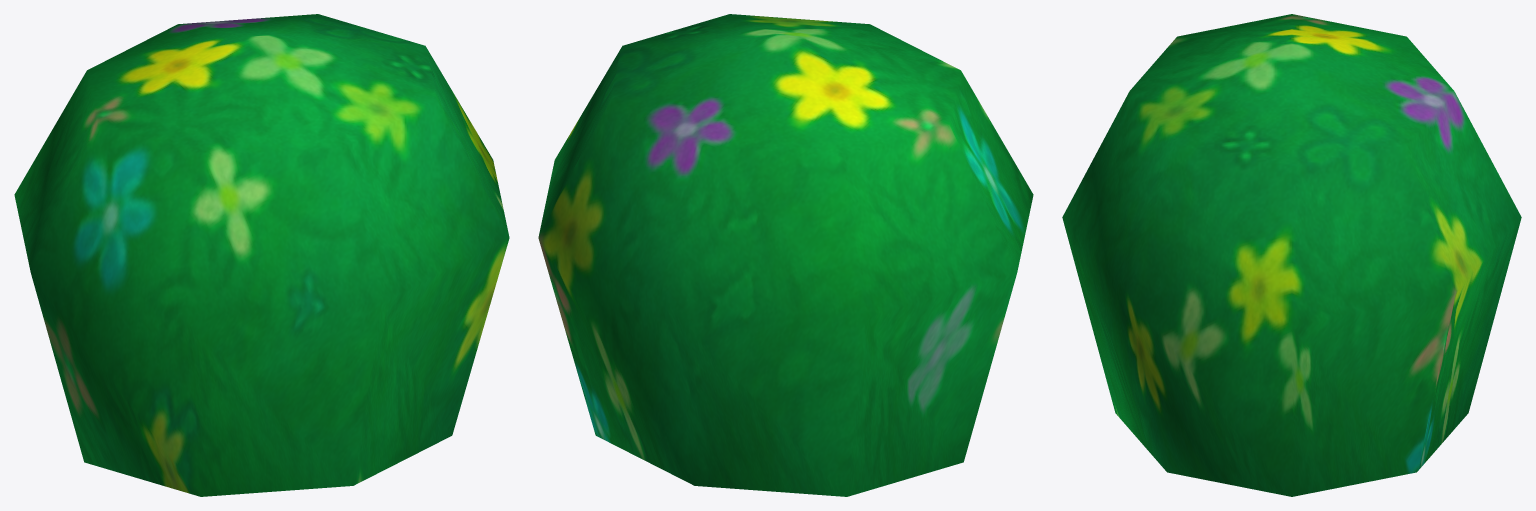
File: Plant02_a02.FBX
3 views of the same model, side by side, from view 1: azimuth 30°, elevation 25°; view 2: azimuth 150°, elevation 25°; view 3: azimuth 270°, elevation 25° (orthographic). The views are drawn at different scales.
Visible parts, largest first — view 1: Plant02_a02; view 2: Plant02_a02; view 3: Plant02_a02.
Part boxes in pixels (x1,y1,x2,y2): Plant02_a02: (14, 14, 509, 496); Plant02_a02: (538, 14, 1033, 496); Plant02_a02: (1062, 14, 1521, 496).
Size of the model in its own units: 194 by 153 by 173.
1 material, 1 textured.
